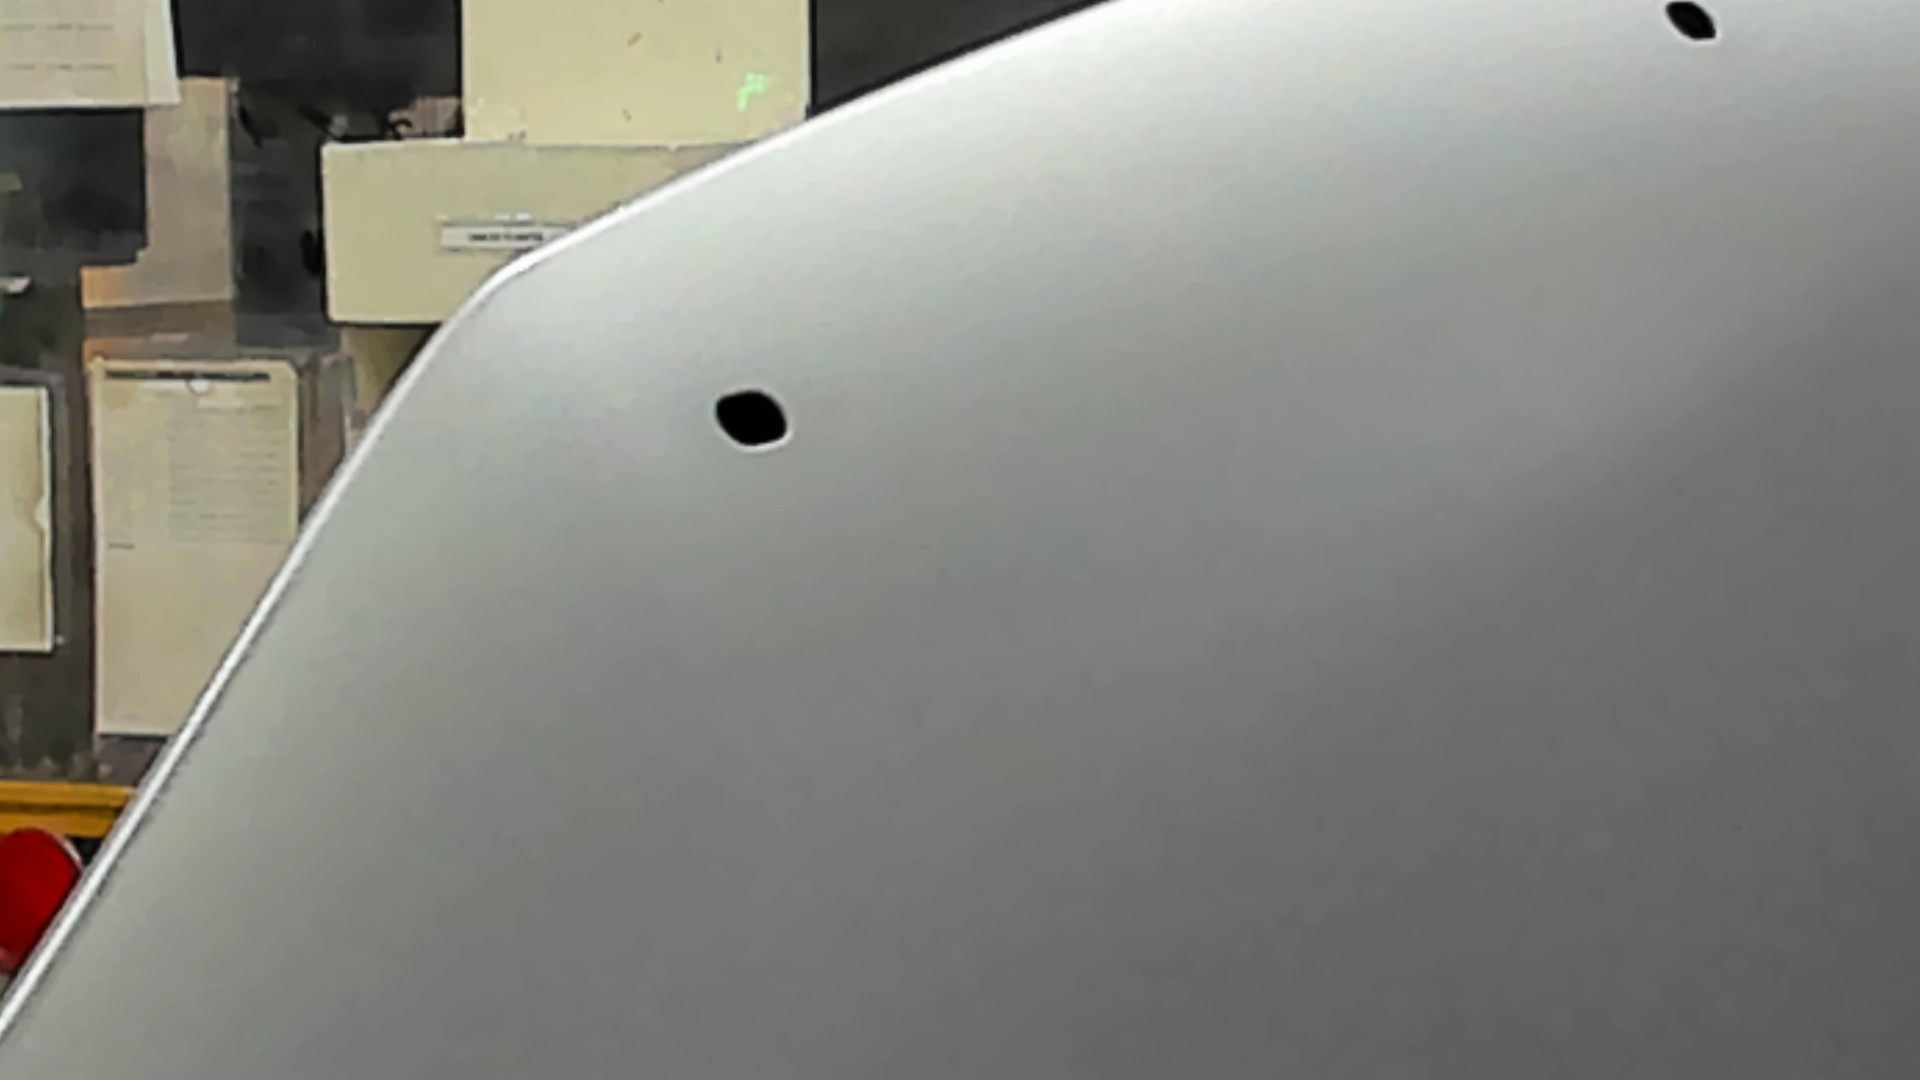chico: (707, 378, 796, 465), (1660, 1, 1727, 50)
